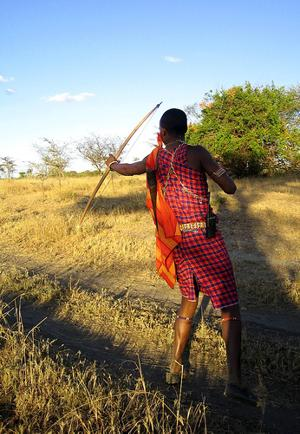person: (111, 107, 253, 399)
